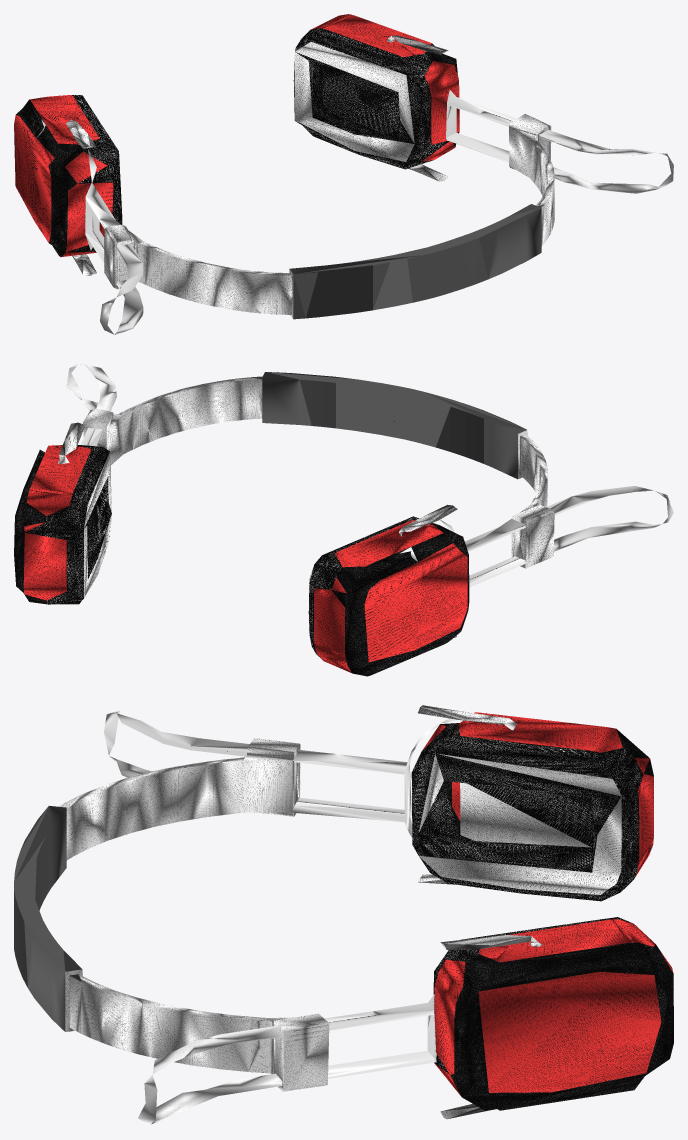
Rendered from model_align.obj.
3 renders of one model, top to bottom at view 1: azimuth 30°, elevation 25°; view 2: azimuth 150°, elevation 25°; view 3: azimuth 270°, elevation 25°, orthographic. The views are drawn at different scales.
Size of the model in its own units: 0.1692 by 0.0357 by 0.1231.
